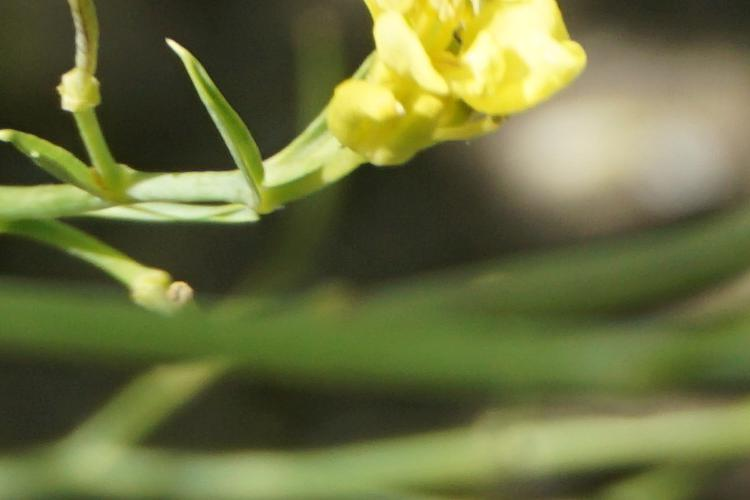pod: (45, 225, 205, 321), (54, 4, 119, 159)
yellow: (328, 2, 590, 171)
